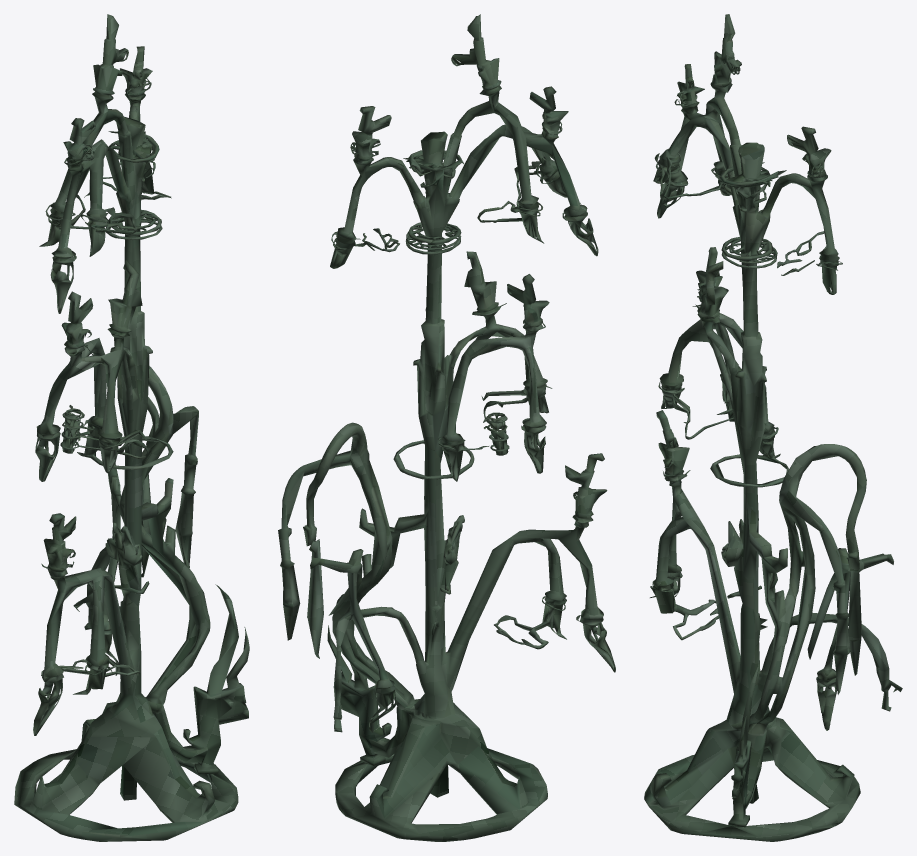
File: tree-sacred.glb
3 views of the same model, side by side, from view 1: azimuth 30°, elevation 25°; view 2: azimuth 150°, elevation 25°; view 3: azimuth 270°, elevation 25° (orthographic). The views are drawn at different scales.
Bounding box in the file's own units: 0.3836 × 1.15 × 0.3489.
1 material, 1 textured.
